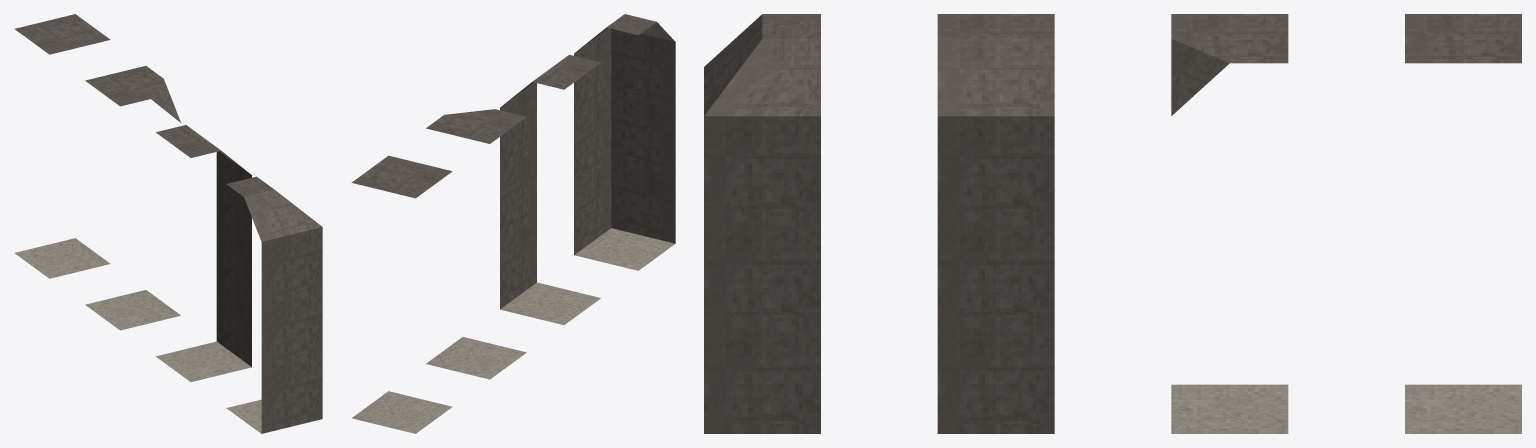
The model's file is DungeonTiles.glb.
The picture shows the model from 3 angles, left to right: view 1: azimuth 30°, elevation 25°; view 2: azimuth 150°, elevation 25°; view 3: azimuth 270°, elevation 25°; orthographic projection. The views are drawn at different scales.
Parts seen in each view (by area): view 1: Corner-in-col, Wall-col, Corner-out-col, Floor-col; view 2: Corner-in-col, Wall-col, Floor-col, Corner-out-col; view 3: Wall-col, Corner-in-col, Corner-out-col, Floor-col.
Part boxes in pixels (x1,y1,x2,y2): Corner-in-col: [226, 176, 322, 433]; Wall-col: [156, 125, 251, 381]; Corner-out-col: [85, 66, 180, 330]; Floor-col: [14, 14, 110, 278]; Corner-in-col: [574, 14, 675, 270]; Wall-col: [500, 55, 600, 324]; Floor-col: [351, 155, 452, 433]; Corner-out-col: [426, 109, 526, 379]; Wall-col: [937, 14, 1054, 433]; Corner-in-col: [704, 14, 820, 433]; Corner-out-col: [1171, 14, 1288, 433]; Floor-col: [1405, 14, 1521, 433].
Bounding box in the file's own units: 1 × 3.5 × 7.
Materials: 1 (1 with a texture image).
